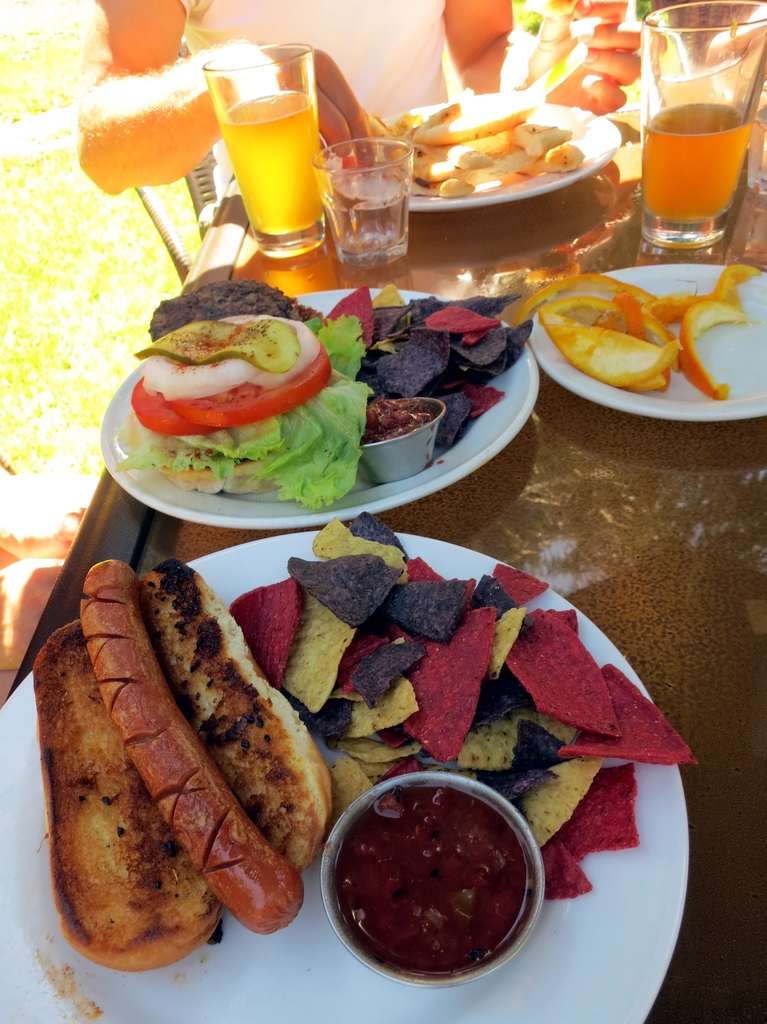hot_dog: (18, 544, 340, 964)
